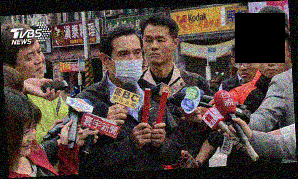with_mask: (113, 47, 145, 87)
without_mask: (143, 33, 175, 66), (258, 48, 292, 79), (21, 45, 46, 79), (18, 121, 38, 159), (236, 55, 258, 84)
